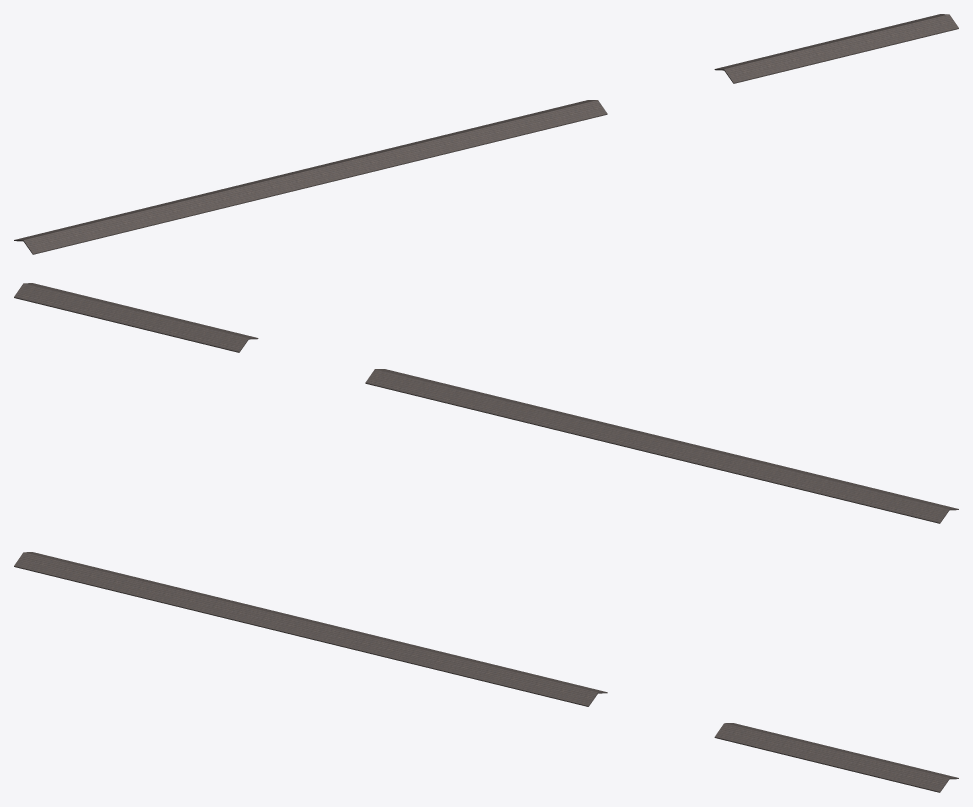
The model's file is TerminalRoof-v1.glb.
The picture shows the model from 3 angles, top to bottom: view 1: azimuth 30°, elevation 25°; view 2: azimuth 150°, elevation 25°; view 3: azimuth 330°, elevation 25°; orthographic projection.
Parts seen in each view (by area): view 1: Roof.001; view 2: Roof.001; view 3: Roof.001.
Part boxes in pixels (left/top/right/bottom): Roof.001: left=14, top=14, right=958, bottom=254; Roof.001: left=14, top=283, right=958, bottom=523; Roof.001: left=14, top=552, right=958, bottom=792.
Bounding box in the file's own units: 258 × 2.08 × 9.14.
1 material, 1 textured.
